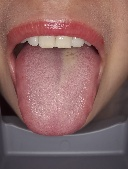tongue: (14, 51, 102, 137)
